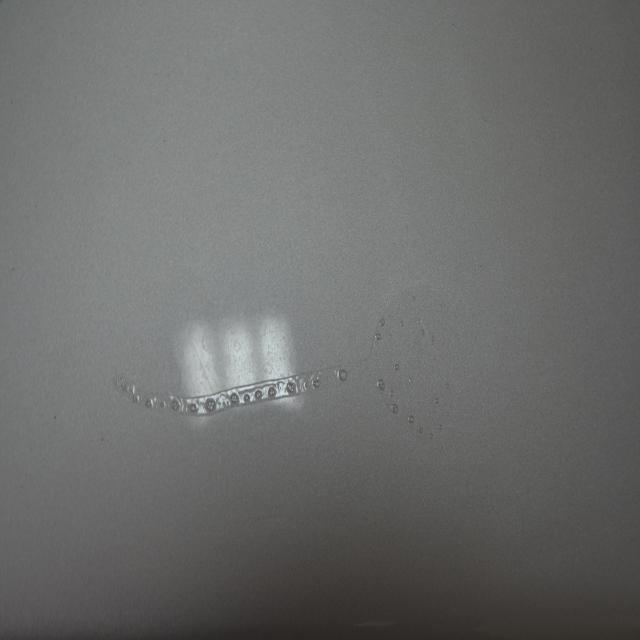runs: (112, 295, 458, 450)
